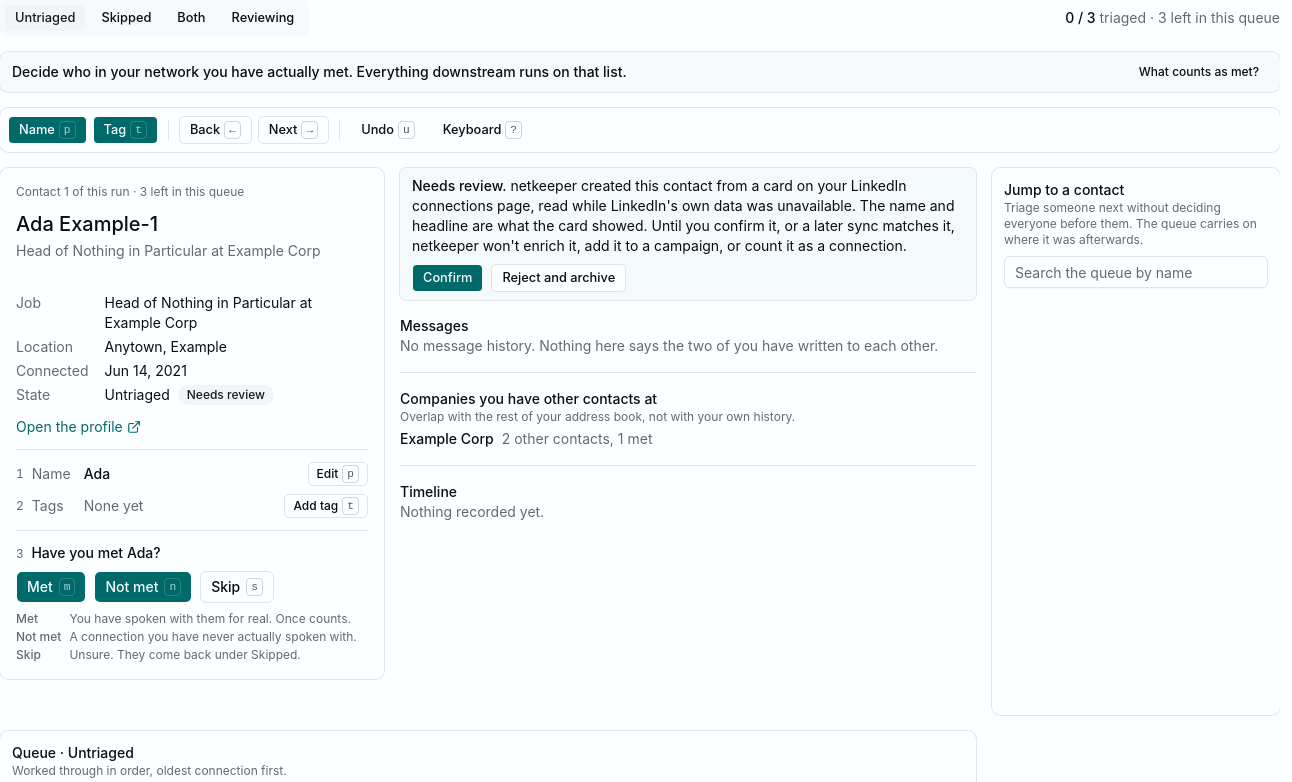
Scenario: a contact read off a connections-page card › confirms: the mark goes, the card stays, and nothing is decided
Click the button with test id "needs-review-confirm" at (448, 278), box [412,264,483,292]
(page scrolled)
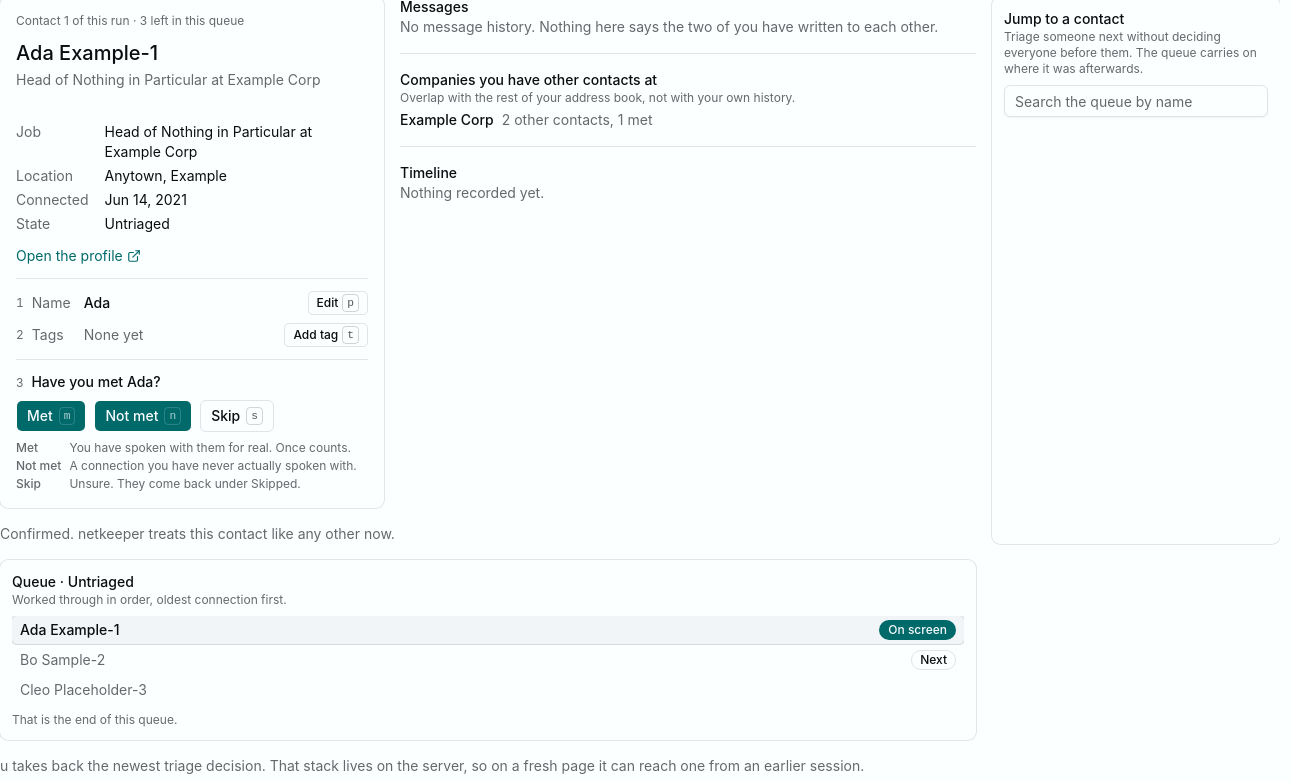
Check: the text "Needs review" is gone
Check: the text with test id "needs-review-badge" is gone
Check: the text with test id "triage-notice" shows "Confirmed", box [0,525,395,542]
